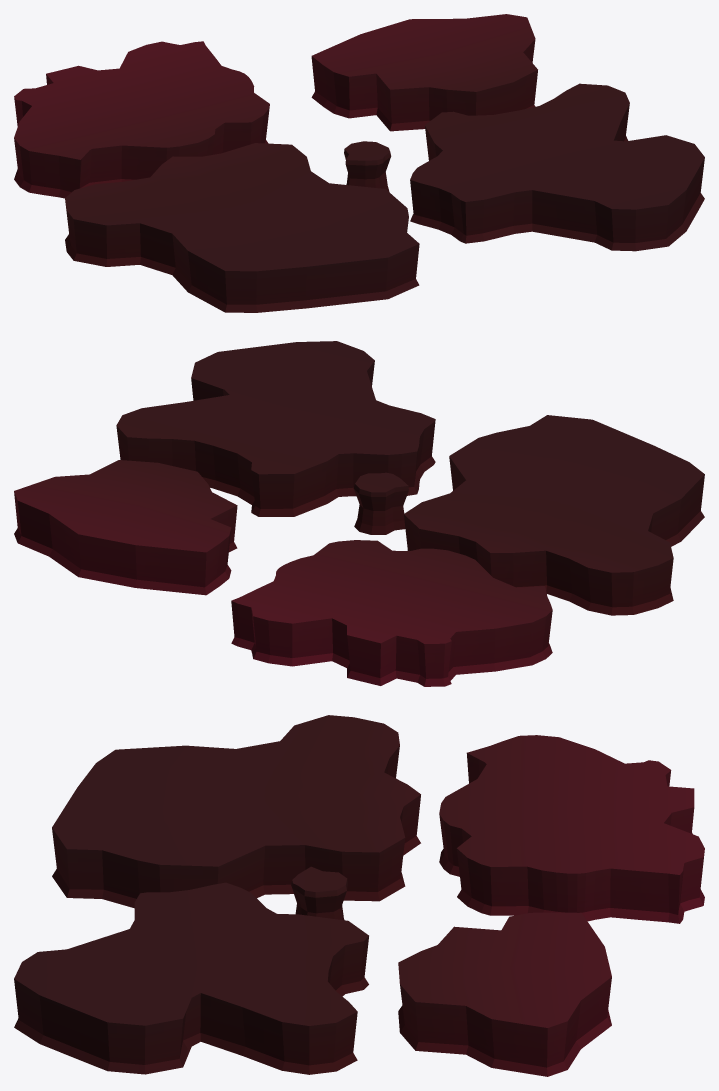
The model's file is SM_Vista_Rocks.fbx.
3 renders of one model, top to bottom at view 1: azimuth 30°, elevation 25°; view 2: azimuth 150°, elevation 25°; view 3: azimuth 270°, elevation 25°, orthographic. The views are drawn at different scales.
Visible parts, largest first — view 1: SM_Vista_Rocks; view 2: SM_Vista_Rocks; view 3: SM_Vista_Rocks.
Boxes of the visible parts, left/top/right/bottom form: SM_Vista_Rocks: left=14, top=14, right=704, bottom=312; SM_Vista_Rocks: left=14, top=341, right=704, bottom=686; SM_Vista_Rocks: left=14, top=715, right=704, bottom=1076.
Size of the model in its own units: 222019 by 16142 by 207109.
Materials: 1 (1 with a texture image).
